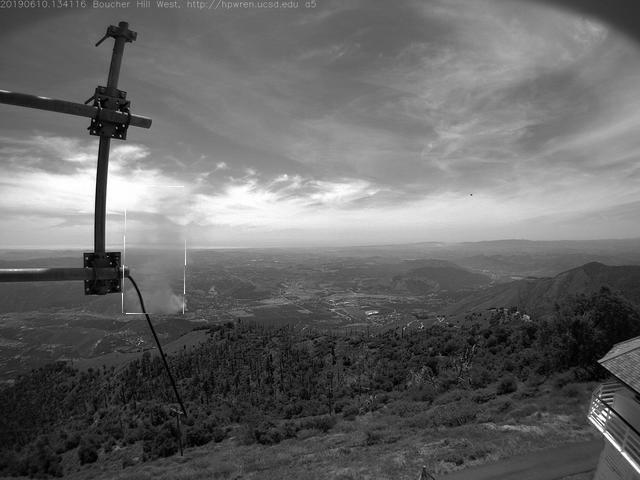smoke: (124, 187, 187, 316)
